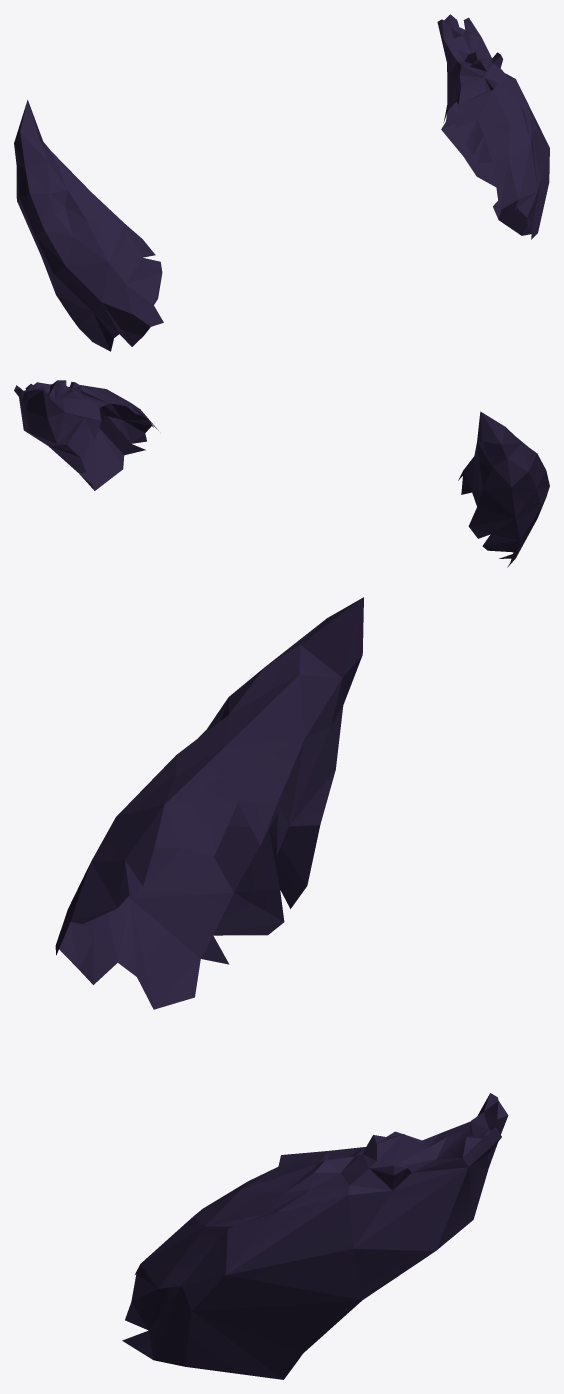
Rendered from chifres.glb.
3 views of the same model, one above another, from view 1: azimuth 30°, elevation 25°; view 2: azimuth 150°, elevation 25°; view 3: azimuth 270°, elevation 25° (orthographic). The views are drawn at different scales.
Parts seen in each view (by area): view 1: chifres; view 2: chifres; view 3: chifres.
Part boxes in pixels (<box>): chifres: <box>14,14,549,351</box>; chifres: <box>14,380,549,567</box>; chifres: <box>55,597,508,1379</box>.
Size of the model in its own units: 0.1387 by 0.0555 by 0.0583.
